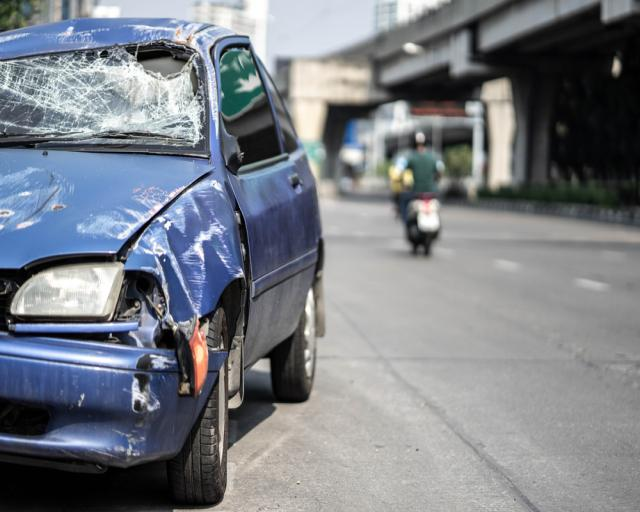glass shatter: (0, 40, 209, 150)
scratch: (0, 18, 232, 132), (133, 176, 243, 322), (75, 179, 189, 243), (0, 162, 76, 244), (120, 353, 175, 464)
